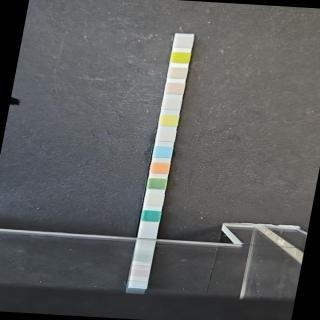mark: (167, 66, 188, 80), (153, 145, 173, 159), (165, 83, 185, 96), (159, 114, 179, 127), (144, 194, 163, 207), (173, 36, 193, 48), (162, 99, 182, 111), (156, 130, 176, 142), (150, 162, 170, 174), (147, 178, 167, 190), (171, 52, 190, 64), (142, 210, 161, 222)
